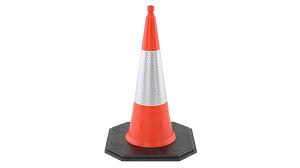cones: (105, 7, 198, 161)
